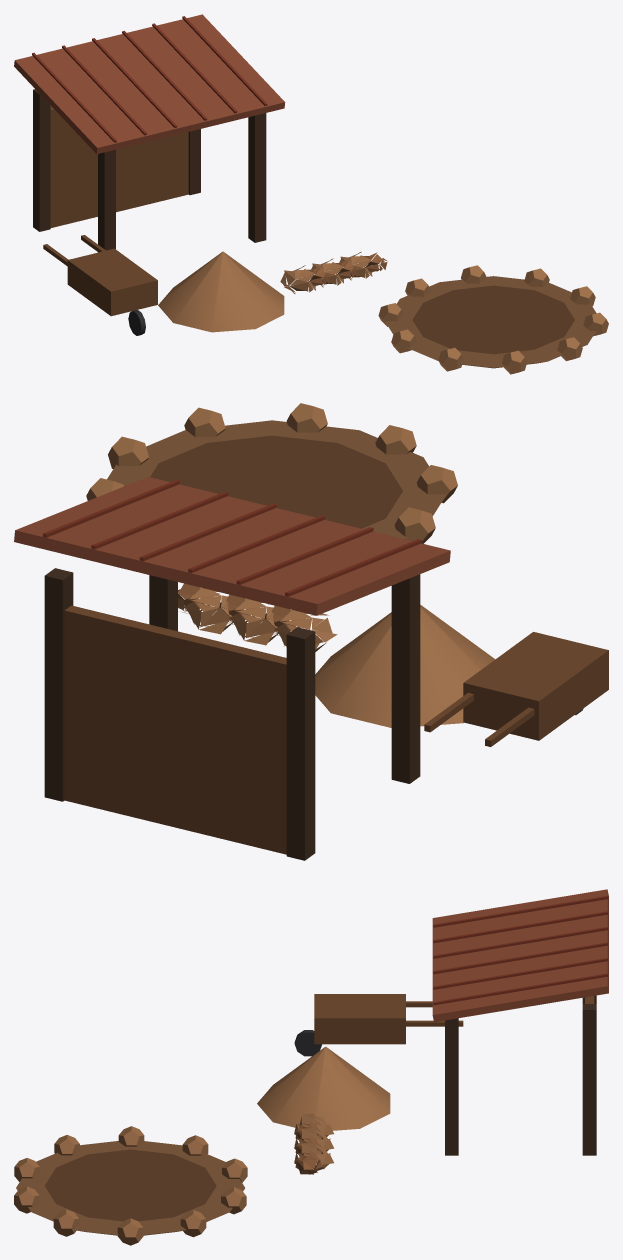
File: lehmgrube.glb
The picture shows the model from 3 angles, top to bottom: view 1: azimuth 30°, elevation 25°; view 2: azimuth 150°, elevation 25°; view 3: azimuth 270°, elevation 25°; orthographic projection. The views are drawn at different scales.
Size of the model in its own units: 4.21 by 1.74 by 5.19.
